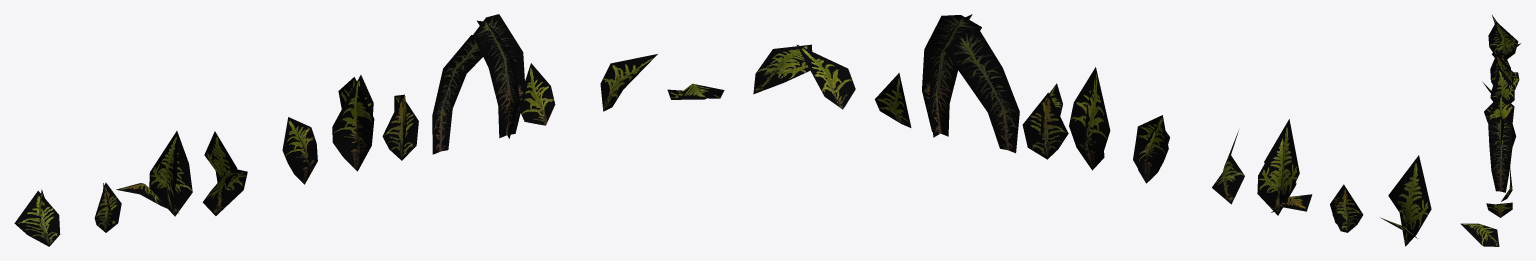
File: moss_01.glb
The picture shows the model from 3 angles, left to right: view 1: azimuth 30°, elevation 25°; view 2: azimuth 150°, elevation 25°; view 3: azimuth 270°, elevation 25°; orthographic projection. The views are drawn at different scales.
Parts seen in each view (by area): view 1: moss_01_tall_b_LOD0, moss_01_f_LOD0, moss_01_c_LOD0, moss_01_tall_a_LOD0, moss_01_d_LOD0, moss_01_e_LOD0, moss_01_a_LOD0, moss_01_g_LOD0, moss_01_h_LOD0, moss_01_i_LOD0, moss_01_b_LOD0, moss_01_j_LOD0; view 2: moss_01_tall_a_LOD0, moss_01_tall_b_LOD0, moss_01_c_LOD0, moss_01_f_LOD0, moss_01_a_LOD0, moss_01_g_LOD0, moss_01_i_LOD0, moss_01_e_LOD0, moss_01_j_LOD0, moss_01_h_LOD0, moss_01_b_LOD0, moss_01_d_LOD0; view 3: moss_01_tall_b_LOD0, moss_01_a_LOD0, moss_01_j_LOD0, moss_01_d_LOD0, moss_01_f_LOD0, moss_01_c_LOD0, moss_01_i_LOD0, moss_01_e_LOD0, moss_01_h_LOD0, moss_01_tall_a_LOD0, moss_01_b_LOD0.
Boxes of the visible parts, x1,y1,x2,y2 form: moss_01_tall_b_LOD0: (472, 14, 525, 138); moss_01_f_LOD0: (332, 75, 374, 171); moss_01_c_LOD0: (116, 131, 192, 216); moss_01_tall_a_LOD0: (432, 35, 482, 154); moss_01_d_LOD0: (202, 131, 247, 215); moss_01_e_LOD0: (282, 117, 317, 184); moss_01_a_LOD0: (14, 189, 60, 246); moss_01_g_LOD0: (382, 94, 418, 160); moss_01_h_LOD0: (520, 63, 555, 125); moss_01_i_LOD0: (600, 54, 657, 111); moss_01_b_LOD0: (94, 182, 121, 232); moss_01_j_LOD0: (667, 83, 724, 99); moss_01_tall_a_LOD0: (944, 30, 1019, 153); moss_01_tall_b_LOD0: (922, 14, 981, 137); moss_01_c_LOD0: (1257, 119, 1312, 215); moss_01_f_LOD0: (1069, 67, 1110, 170); moss_01_a_LOD0: (1380, 155, 1431, 246); moss_01_g_LOD0: (1022, 83, 1068, 159); moss_01_i_LOD0: (796, 44, 855, 109); moss_01_e_LOD0: (1133, 115, 1169, 183); moss_01_j_LOD0: (753, 44, 812, 94); moss_01_h_LOD0: (875, 73, 911, 127); moss_01_b_LOD0: (1330, 184, 1363, 232); moss_01_d_LOD0: (1212, 130, 1244, 204); moss_01_tall_b_LOD0: (1488, 116, 1512, 192); moss_01_a_LOD0: (1488, 15, 1520, 59); moss_01_j_LOD0: (1460, 223, 1499, 246); moss_01_d_LOD0: (1483, 66, 1514, 102); moss_01_f_LOD0: (1487, 94, 1514, 122); moss_01_c_LOD0: (1490, 47, 1519, 89); moss_01_i_LOD0: (1486, 202, 1512, 217); moss_01_e_LOD0: (1484, 91, 1500, 122); moss_01_h_LOD0: (1501, 167, 1512, 201); moss_01_tall_a_LOD0: (1511, 121, 1516, 147); moss_01_b_LOD0: (1500, 53, 1510, 68).
Bounding box in the file's own units: 0.2153 × 0.0404 × 0.0294.
Materials: 1 (1 with a texture image).
